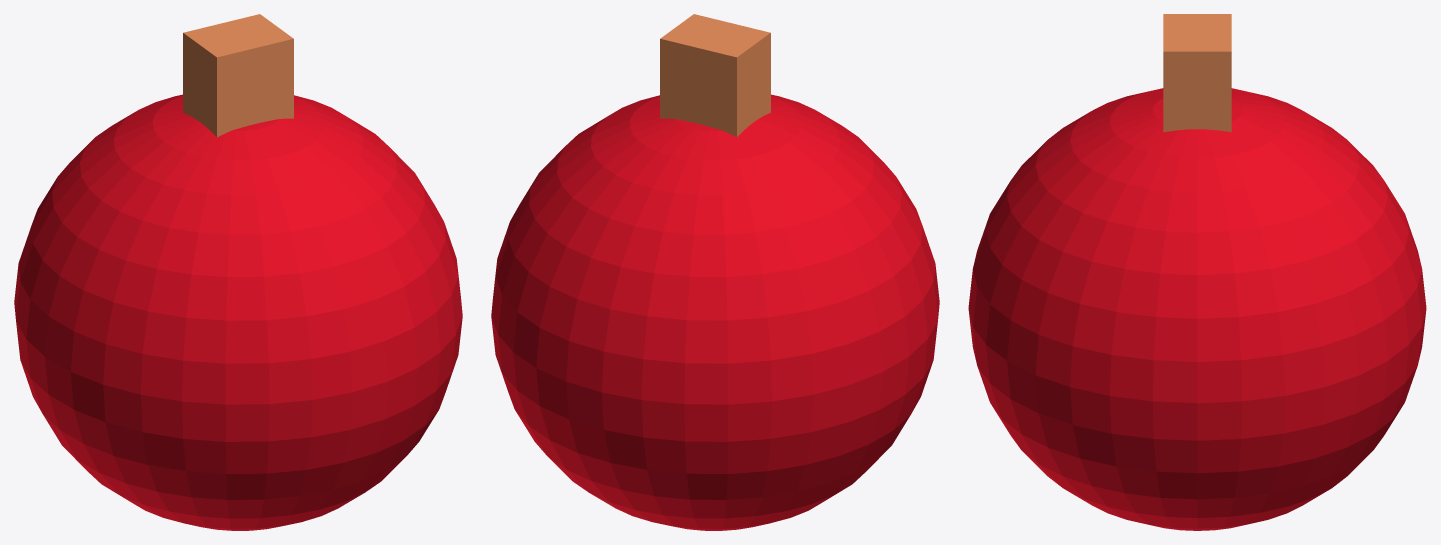
The model's file is Potion.fbx.
The picture shows the model from 3 angles, left to right: view 1: azimuth 30°, elevation 25°; view 2: azimuth 150°, elevation 25°; view 3: azimuth 270°, elevation 25°; orthographic projection.
Parts seen in each view (by area): view 1: Sphere, Cube; view 2: Sphere, Cube; view 3: Sphere, Cube.
Boxes of the visible parts, box(x1,y1,x2,y2) form: Sphere: box(14, 94, 462, 530); Cube: box(183, 14, 293, 137); Sphere: box(491, 94, 939, 530); Cube: box(660, 14, 770, 137); Sphere: box(968, 88, 1426, 530); Cube: box(1163, 14, 1231, 132).
Bounding box in the file's own units: 99.57 × 116 × 101.
